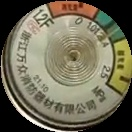green: (93, 10, 126, 45)
needle: (98, 27, 121, 44)
red: (46, 1, 100, 21)
yellow: (105, 37, 132, 97)
